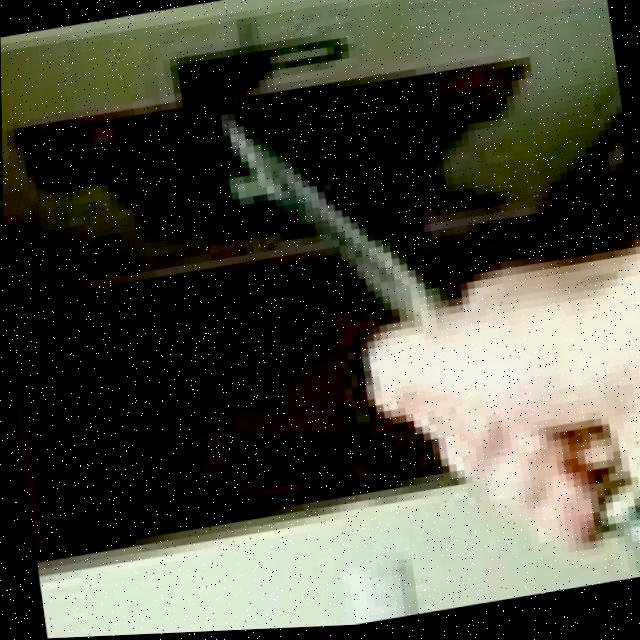knife: (214, 88, 442, 358)
